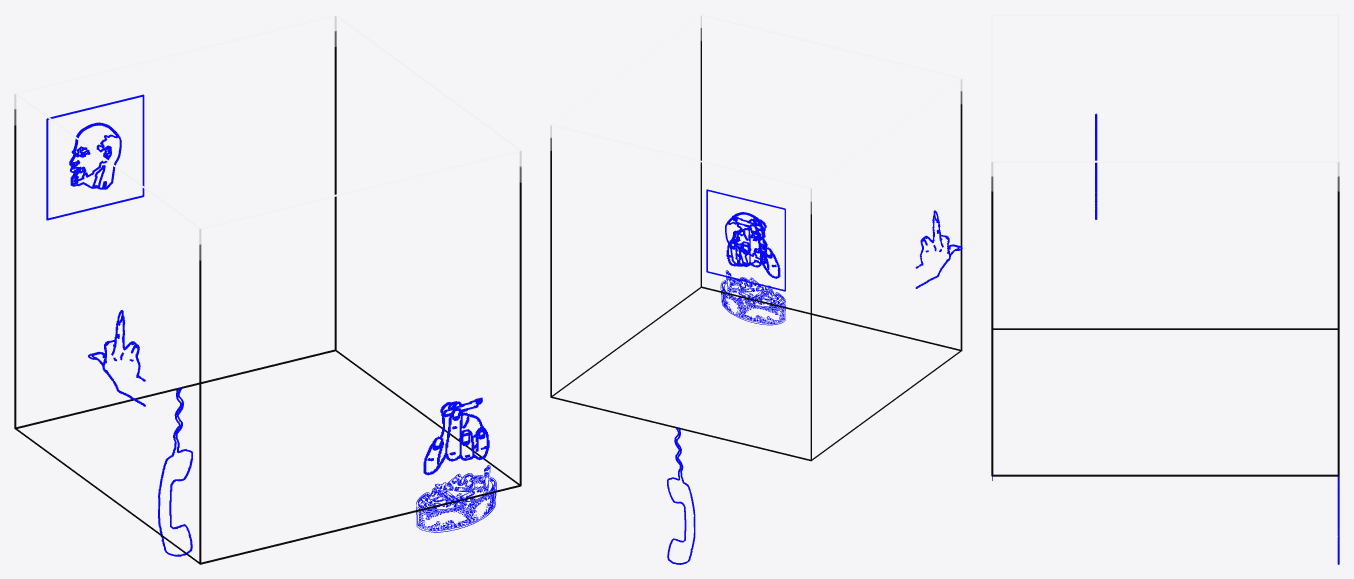
File: ussr.glb
3 renders of one model, left to right at view 1: azimuth 30°, elevation 25°; view 2: azimuth 150°, elevation 25°; view 3: azimuth 270°, elevation 25°, orthographic. The views are drawn at different scales.
Bounding box in the file's own units: 1.18 × 1.51 × 1.01.
